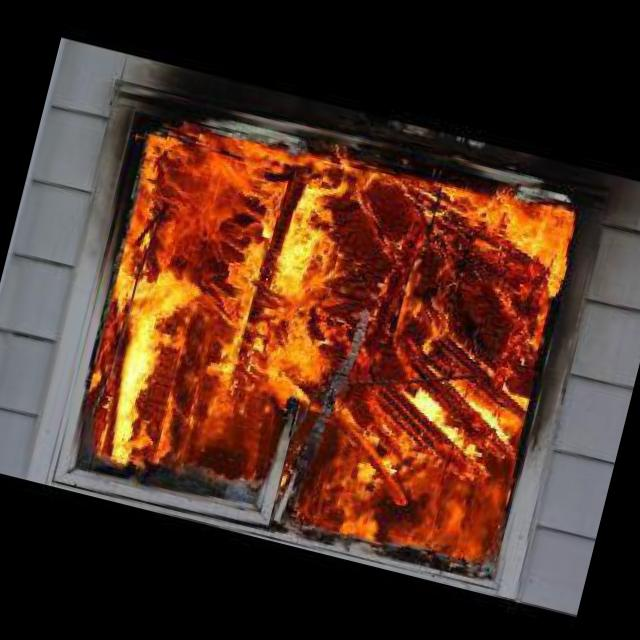fire: (61, 97, 588, 576)
